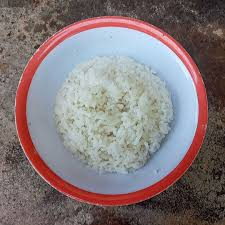Nasi putih: (49, 54, 183, 173)
